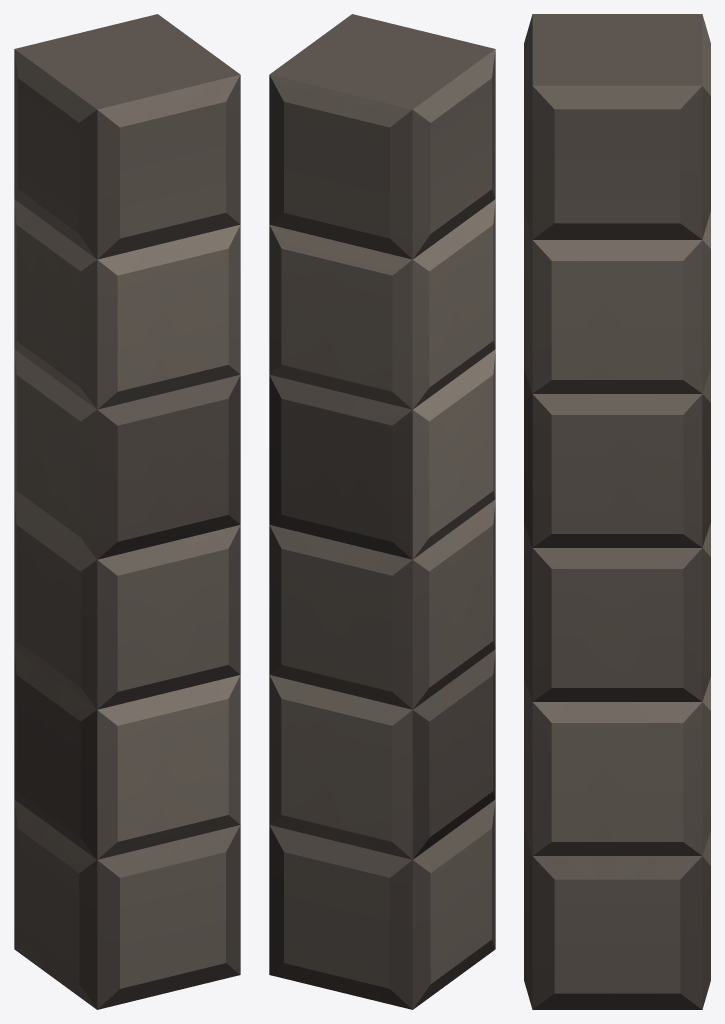
The model's file is TSP_House_Pole_01B.fbx.
The picture shows the model from 3 angles, left to right: view 1: azimuth 30°, elevation 25°; view 2: azimuth 150°, elevation 25°; view 3: azimuth 270°, elevation 25°; orthographic projection. The views are drawn at different scales.
Parts seen in each view (by area): view 1: TSP_House_Pole_01B; view 2: TSP_House_Pole_01B; view 3: TSP_House_Pole_01B.
Boxes of the visible parts, x1,y1,x2,y2 form: TSP_House_Pole_01B: (14,14,240,1009); TSP_House_Pole_01B: (269,14,495,1009); TSP_House_Pole_01B: (524,14,710,1009).
Size of the model in its own units: 0.55 by 3 by 0.55.
